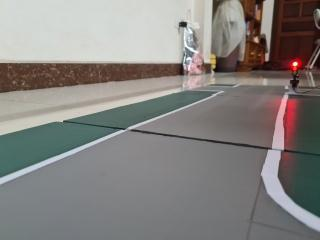red: (289, 55, 305, 85)
